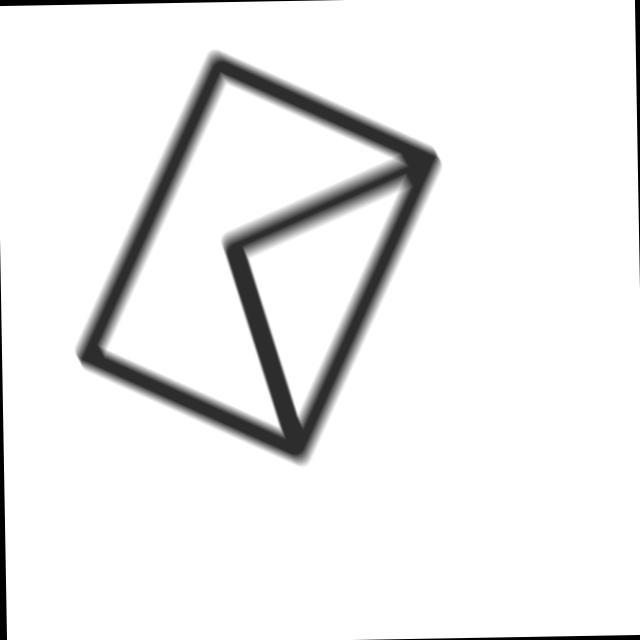letter: (69, 42, 447, 478)
